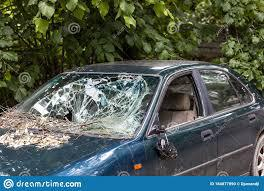Front-Windscreen-Damage: (26, 69, 167, 138)
Sidemirror-Damage: (156, 136, 183, 164)
